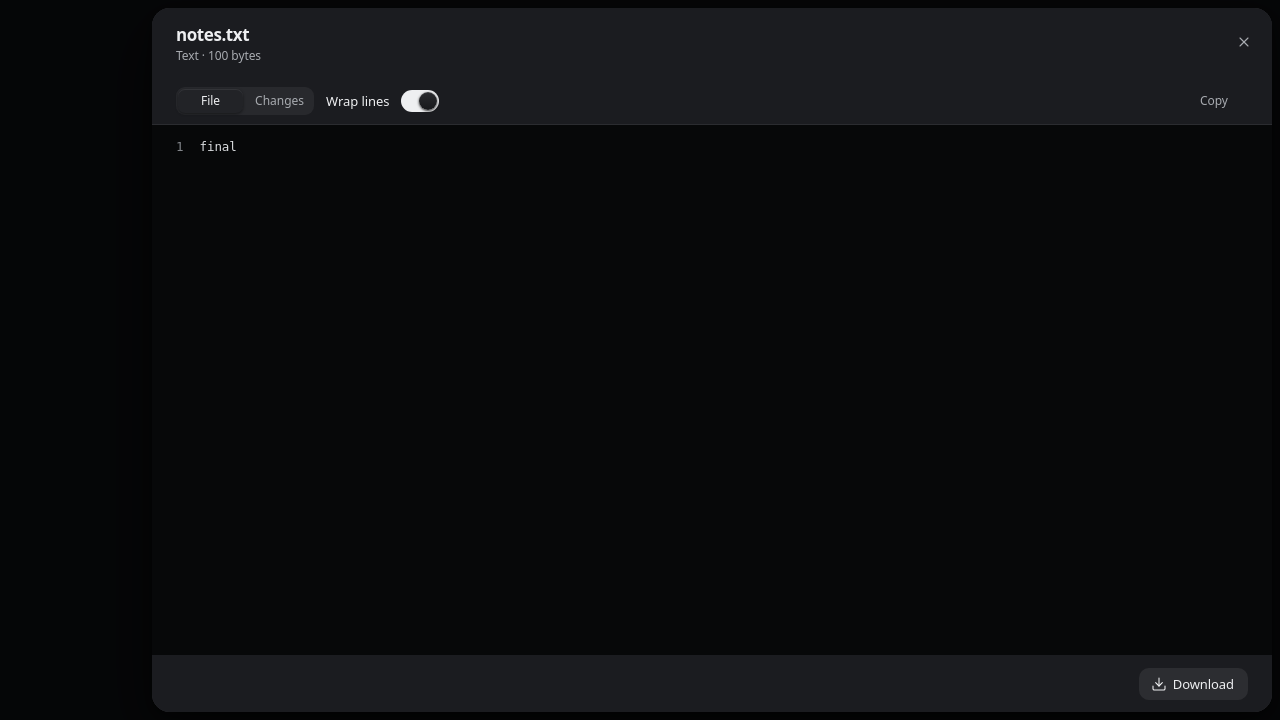
the full preview › shows what a version changed from the one before it
Click the radio button labelled "Changes" at (280, 100), box [245,86,314,114]
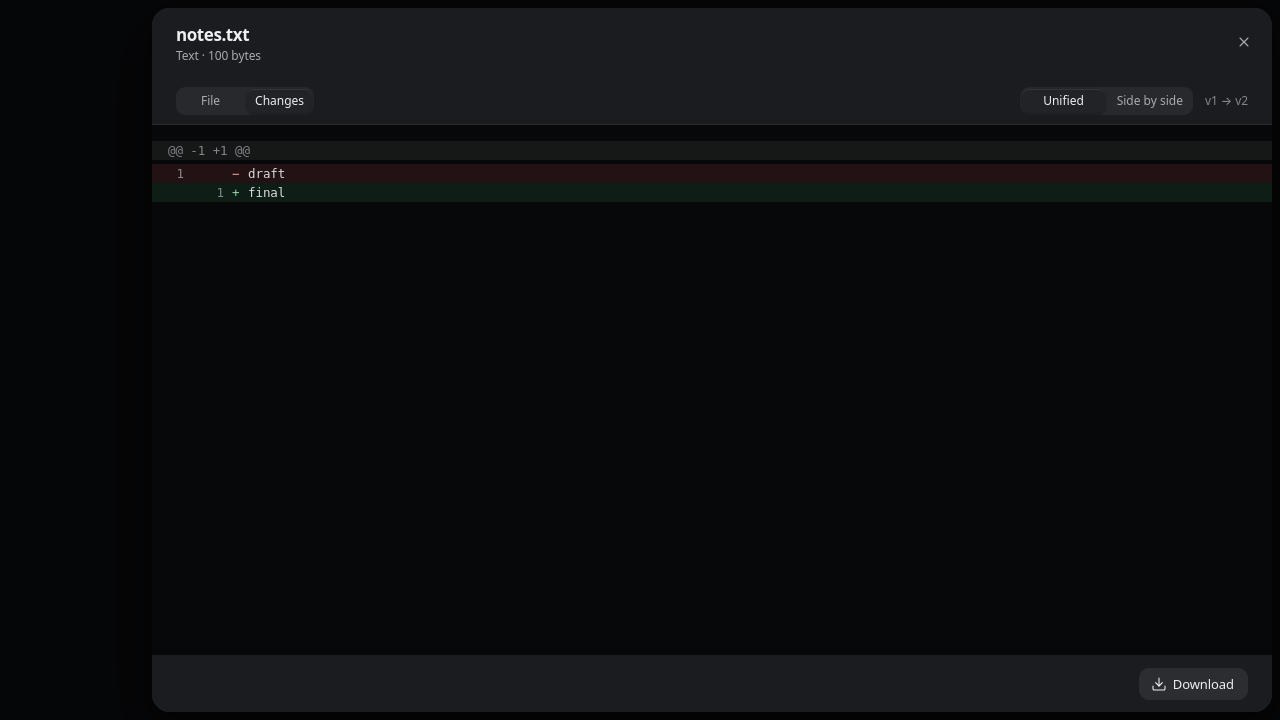
Check: the element named "Changes to notes.txt" shows "final", box [248,185,285,200]
Check: the text "v1 → v2" is shown, box [1205,92,1248,108]
